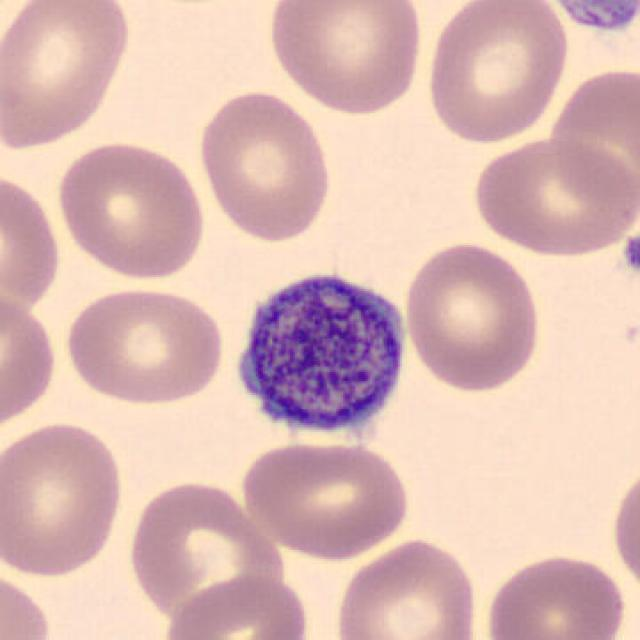Lymphocyte: (222, 259, 416, 452)
Platelets: (544, 0, 640, 35), (618, 230, 640, 280)
RBC: (123, 476, 286, 622), (400, 238, 546, 395), (53, 136, 210, 282), (194, 85, 336, 245), (238, 436, 414, 562), (423, 0, 572, 146), (468, 134, 636, 259), (0, 0, 137, 153), (61, 282, 228, 407), (0, 418, 128, 580), (263, 0, 426, 116), (331, 534, 484, 640), (544, 62, 638, 229), (480, 548, 631, 640), (160, 571, 313, 640), (0, 164, 64, 319), (0, 287, 60, 437), (608, 460, 640, 600), (0, 564, 57, 640)
